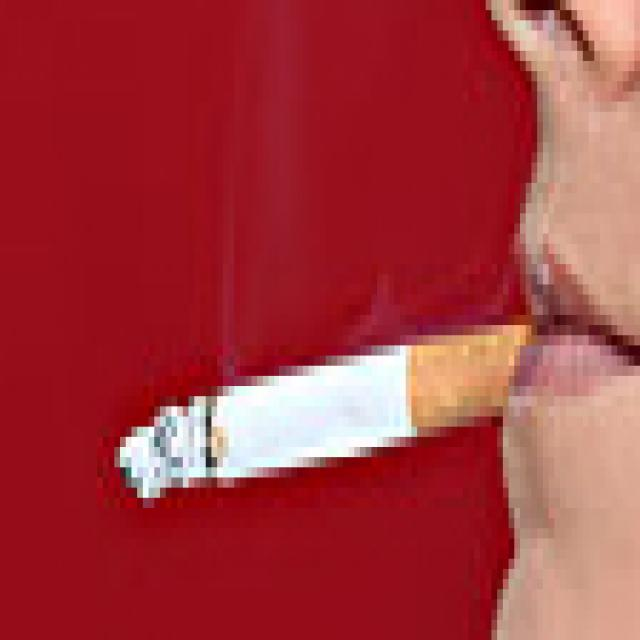smoking: (119, 320, 538, 503)
